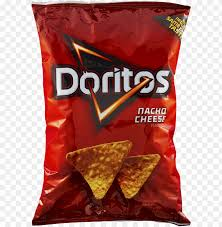Doritos: (32, 1, 194, 226)
